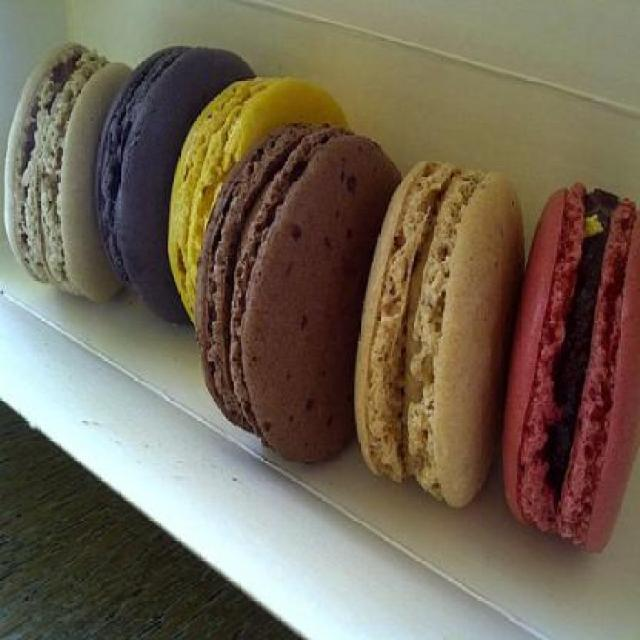Macaron: (8, 37, 640, 557)
